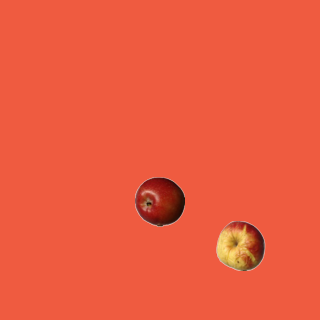Apple Braeburn: (134, 176, 184, 226)
Apple Red Yellow 1: (215, 220, 265, 270)
